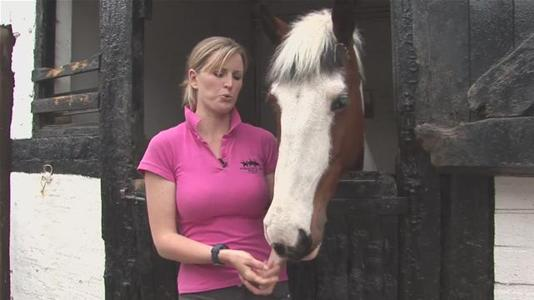person: (141, 36, 298, 300)
